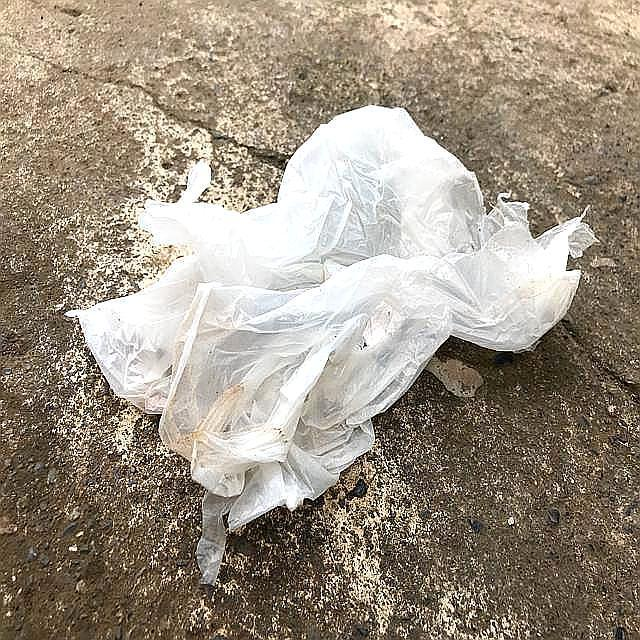Non-biodegradable: (65, 102, 599, 586)
